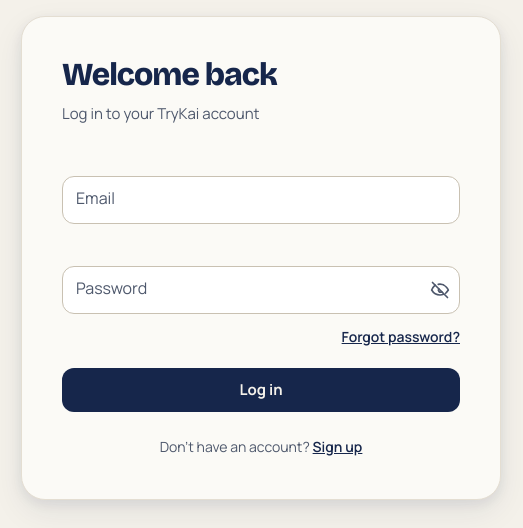
Scenario: Logging in › disables the submit button while the request is in flight
The width and height of the screenshot is (523, 528).
Type "kai@example.com" into the field labelled "Email" at {"x": 261, "y": 200}, box [62,176,460,224]
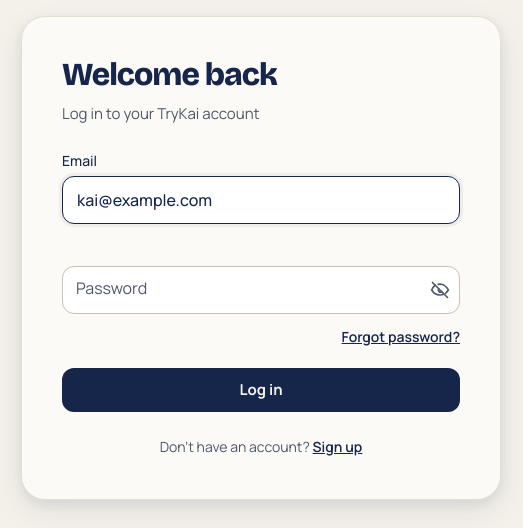
Type "hunter22" into the password field labelled "Password" at {"x": 261, "y": 290}, box [62,266,460,314]
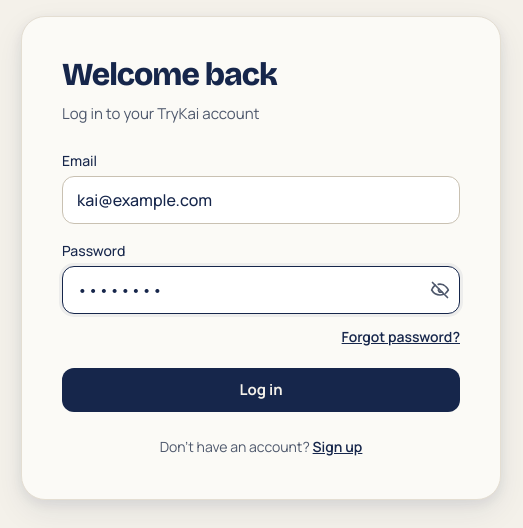
Click the button "Log in" at {"x": 261, "y": 390}, box [62,368,460,412]
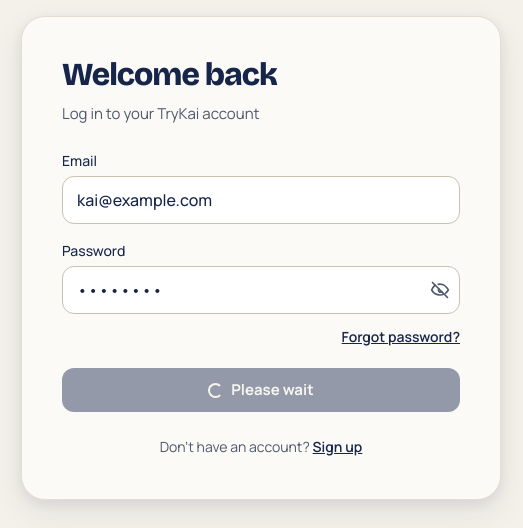
Now the button "Please wait" is disabled, box [62,368,460,412]
